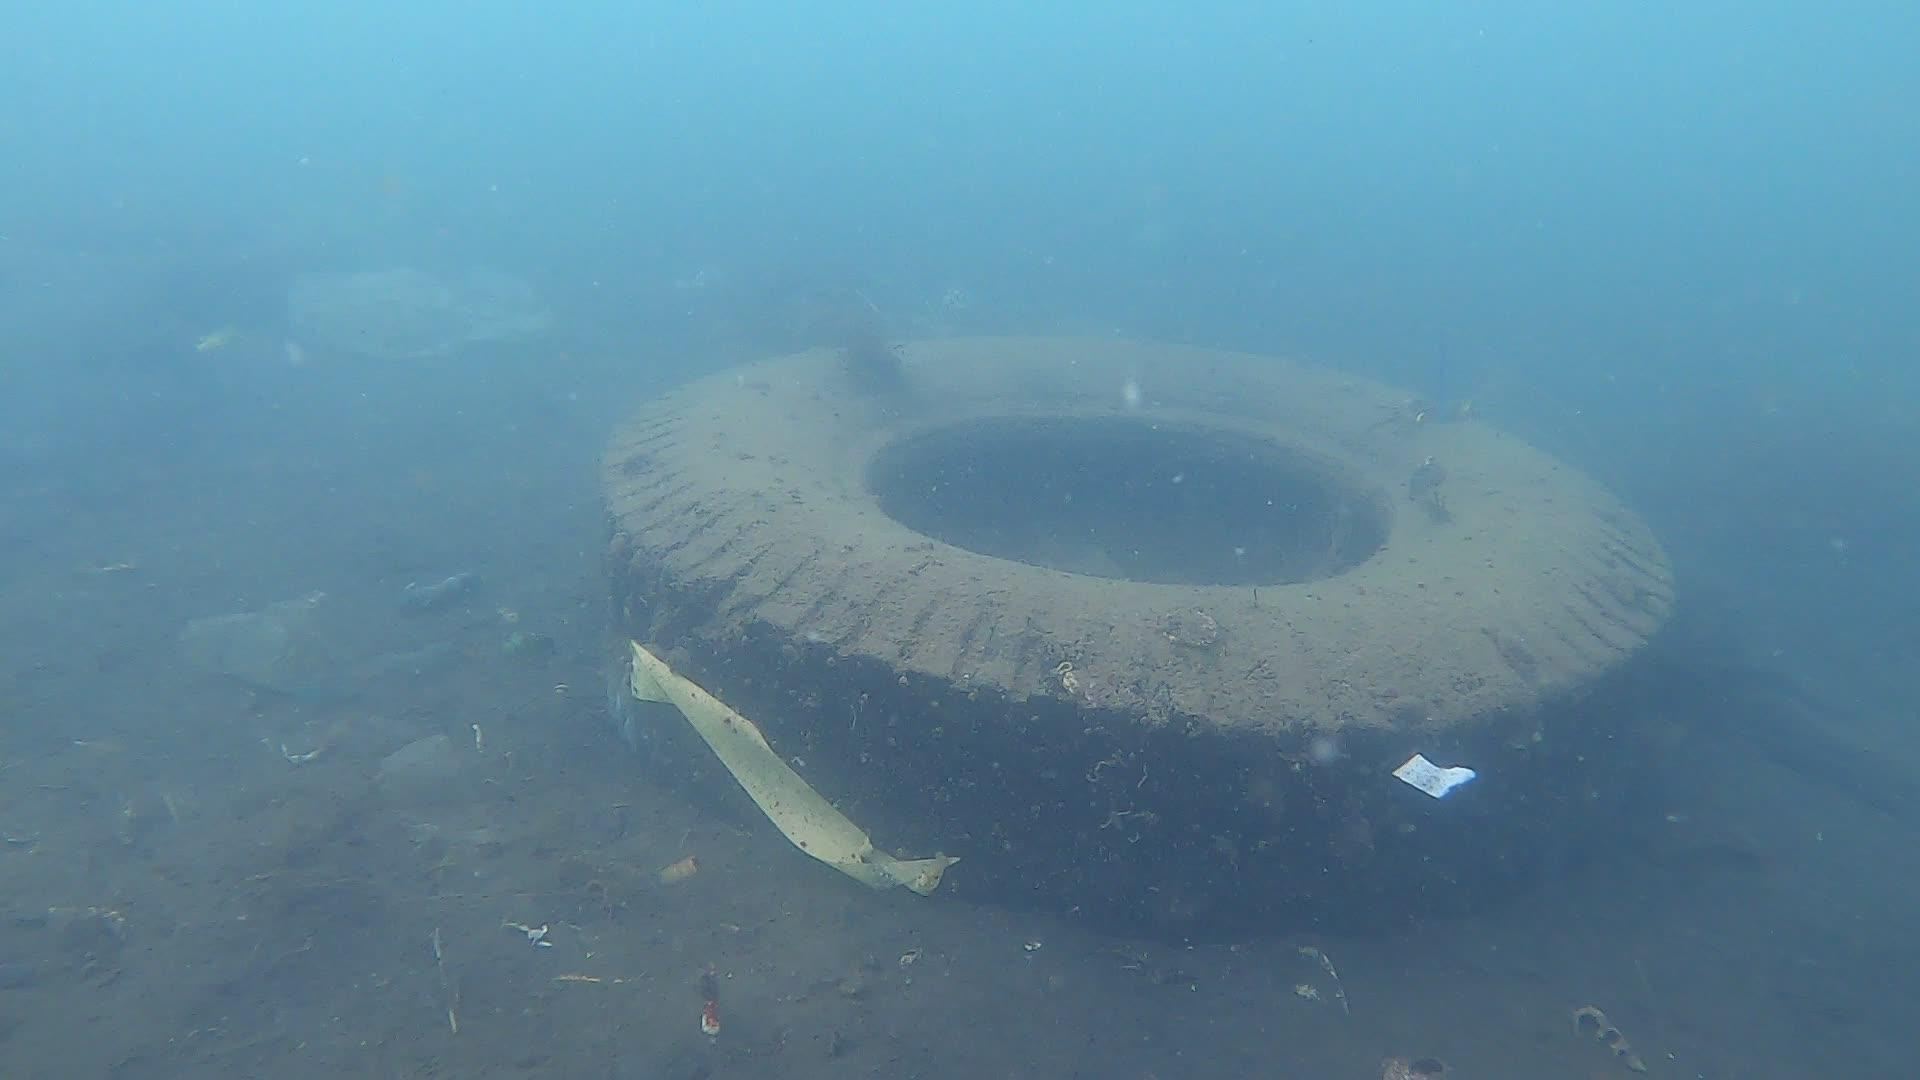tire: (589, 334, 1685, 926)
